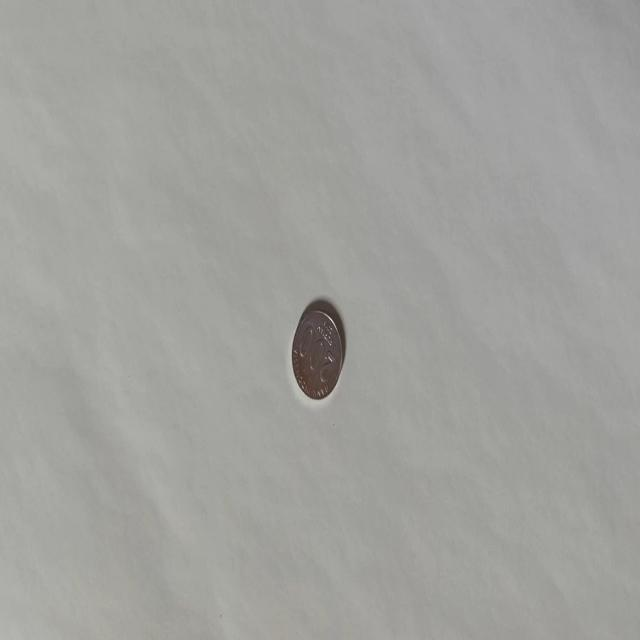dua ratus rupiah: (290, 306, 344, 401)
